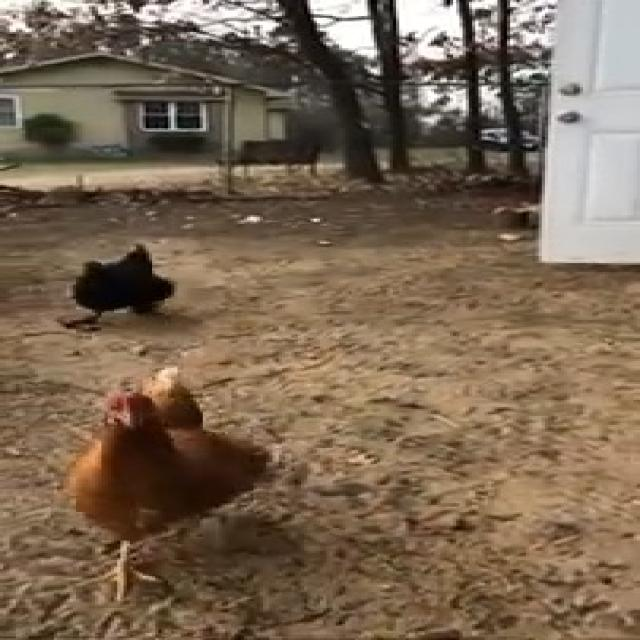running: (60, 368, 288, 590), (45, 219, 196, 327)
